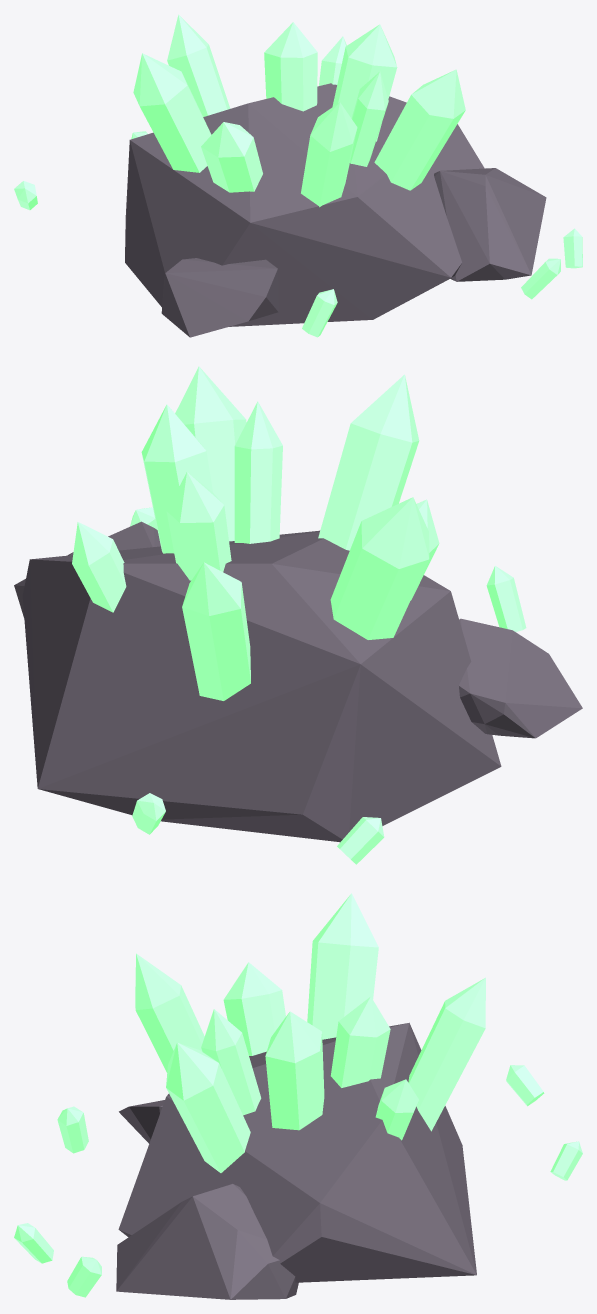
File: Crystal_OreNode_Green.glb
3 views of the same model, one above another, from view 1: azimuth 30°, elevation 25°; view 2: azimuth 150°, elevation 25°; view 3: azimuth 270°, elevation 25° (orthographic). The views are drawn at different scales.
Visible parts, largest first — view 1: Crystal_OreNode_green; view 2: Crystal_OreNode_green; view 3: Crystal_OreNode_green.
Part boxes in pixels (x1,y1,x2,y2): Crystal_OreNode_green: (14, 14, 582, 337); Crystal_OreNode_green: (14, 366, 582, 864); Crystal_OreNode_green: (14, 893, 582, 1299).
Size of the model in its own units: 1.27 by 0.715 by 1.38.
